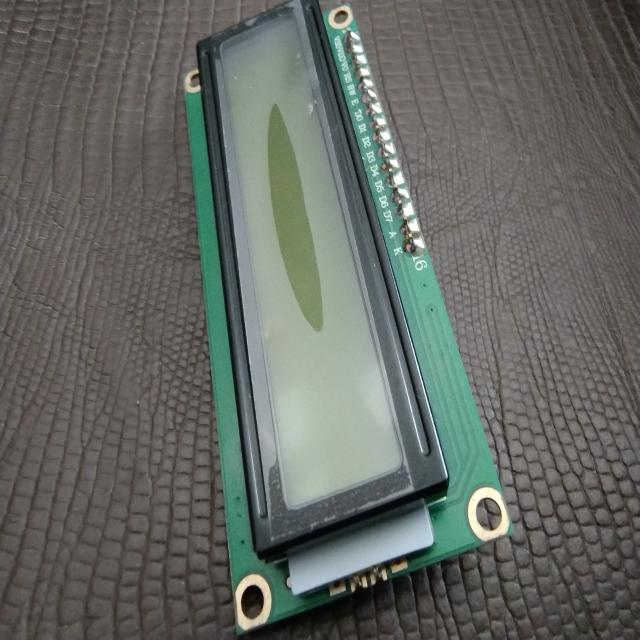lcd: (156, 6, 519, 639)
